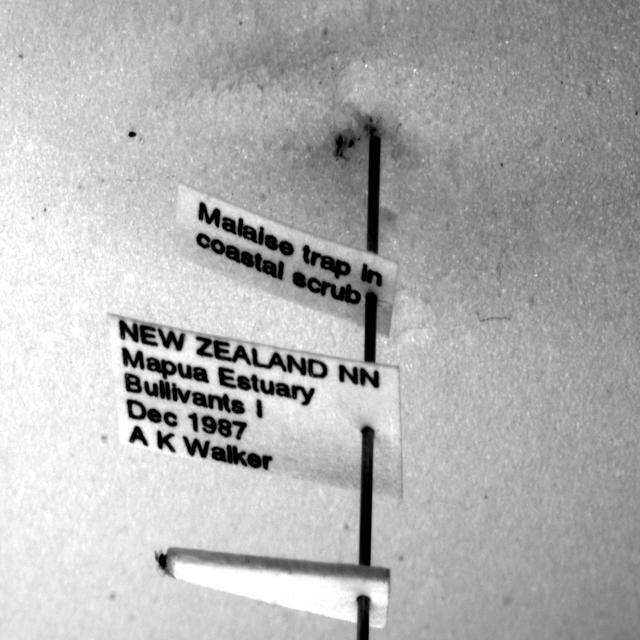typed_label: (108, 315, 402, 495), (175, 184, 398, 336)
